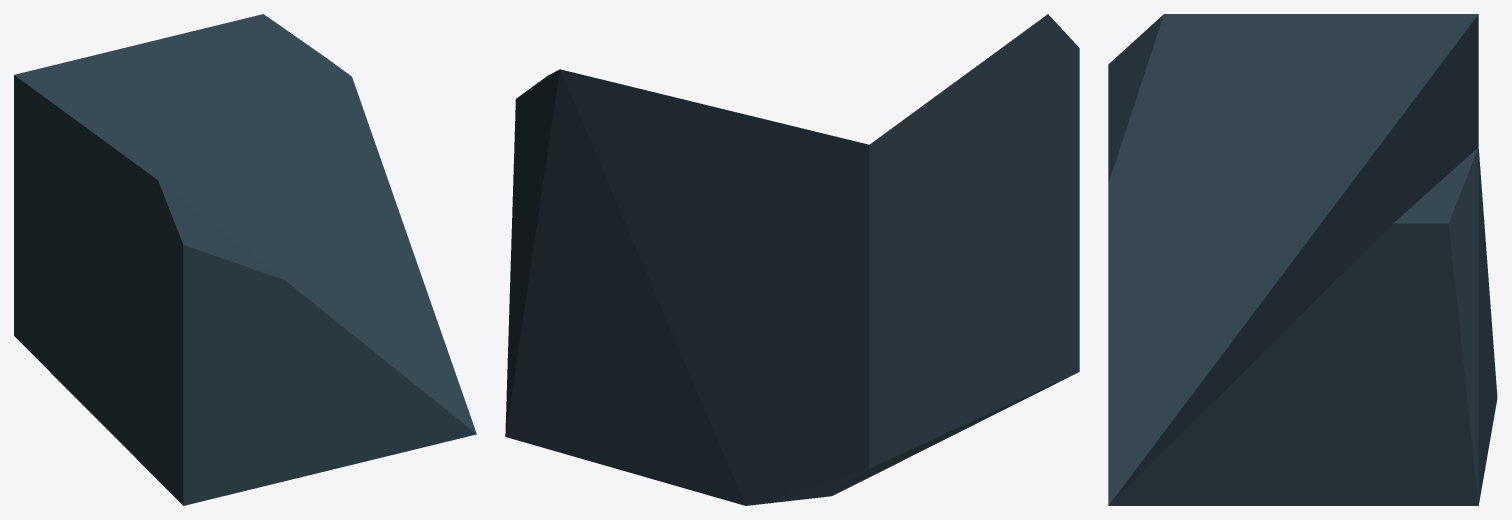
File: ramp_straight_narrow_one_step4.fbx
3 views of the same model, side by side, from view 1: azimuth 30°, elevation 25°; view 2: azimuth 150°, elevation 25°; view 3: azimuth 270°, elevation 25° (orthographic). The views are drawn at different scales.
Visible parts, largest first — view 1: ramp_straight_narrow_one_step4; view 2: ramp_straight_narrow_one_step4; view 3: ramp_straight_narrow_one_step4.
Boxes of the visible parts, x1,y1,x2,y2 form: ramp_straight_narrow_one_step4: (14, 14, 476, 505); ramp_straight_narrow_one_step4: (505, 14, 1079, 505); ramp_straight_narrow_one_step4: (1108, 14, 1497, 505).
Size of the model in its own units: 25.45 by 25 by 26.27.
